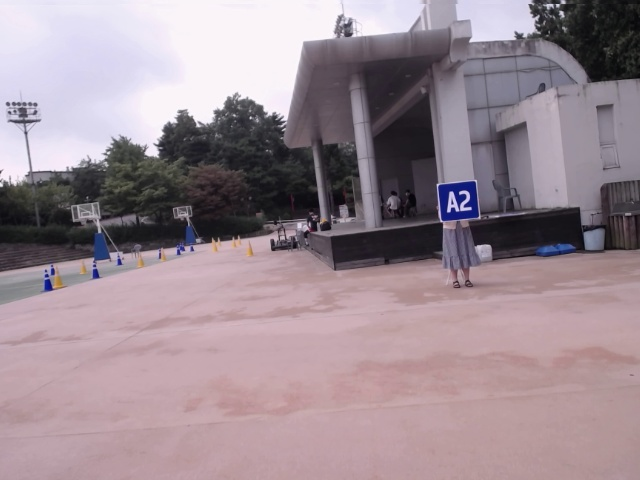delivery_a2: (437, 180, 480, 222)
